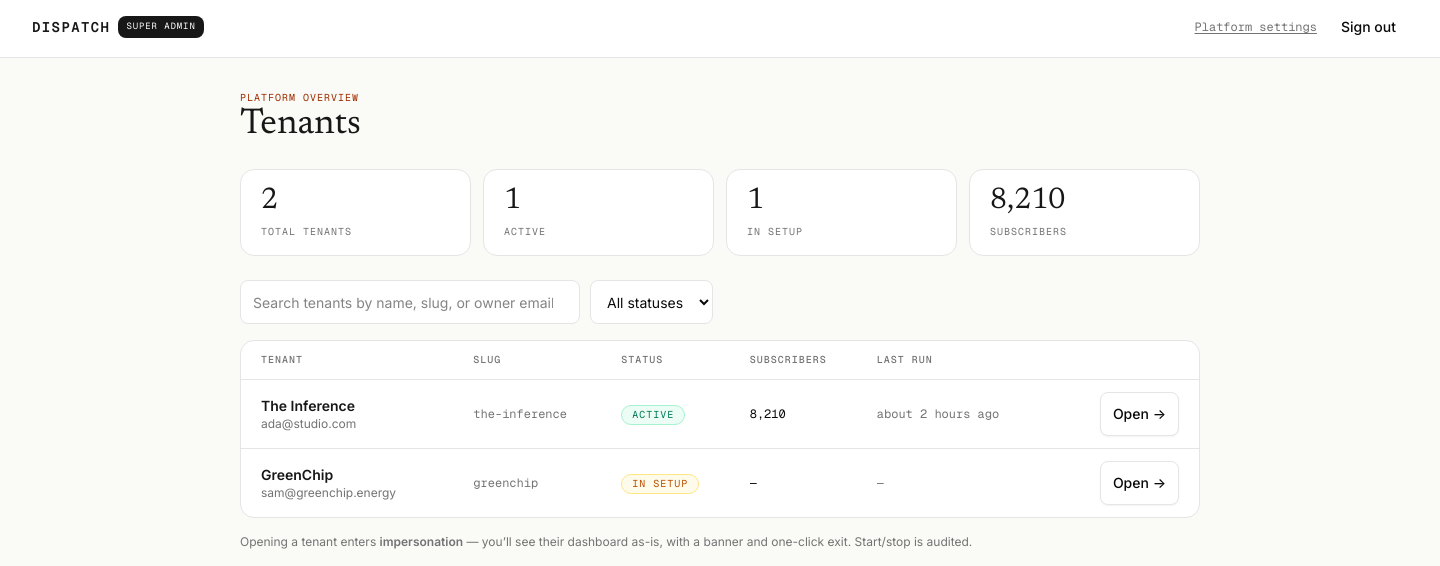
Test: SuperAdminTenantsPage › search and status filter narrow the list
Check: the text "The Inference" is shown, box [261,397,355,414]
Search by owner email fragment.
In the search field with placeholder "Search tenants by name, slug, or owner email…": (410, 302) [240,280,580,324], type "greenchip.energy"
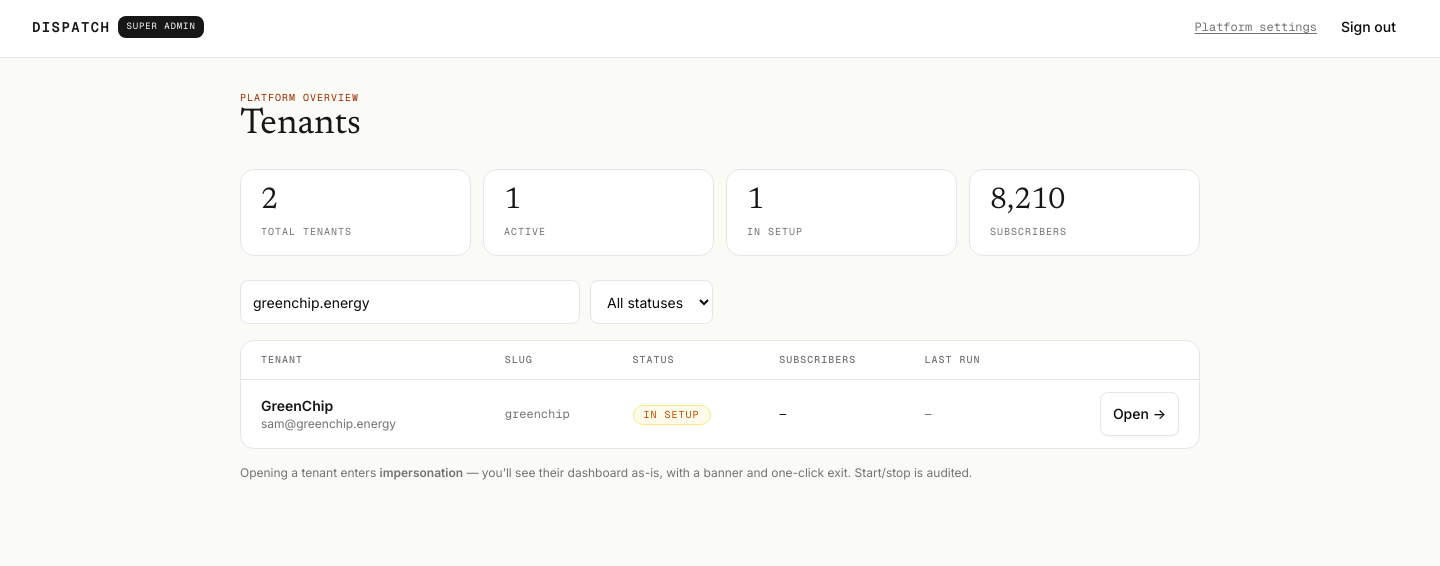
Check: the text "GreenChip" is shown, box [261,397,333,414]
Check: the text "The Inference" is gone
Clear search, filter by status instead.
Clear the search field with placeholder "Search tenants by name, slug, or owner email…": (410, 302) [240,280,580,324]
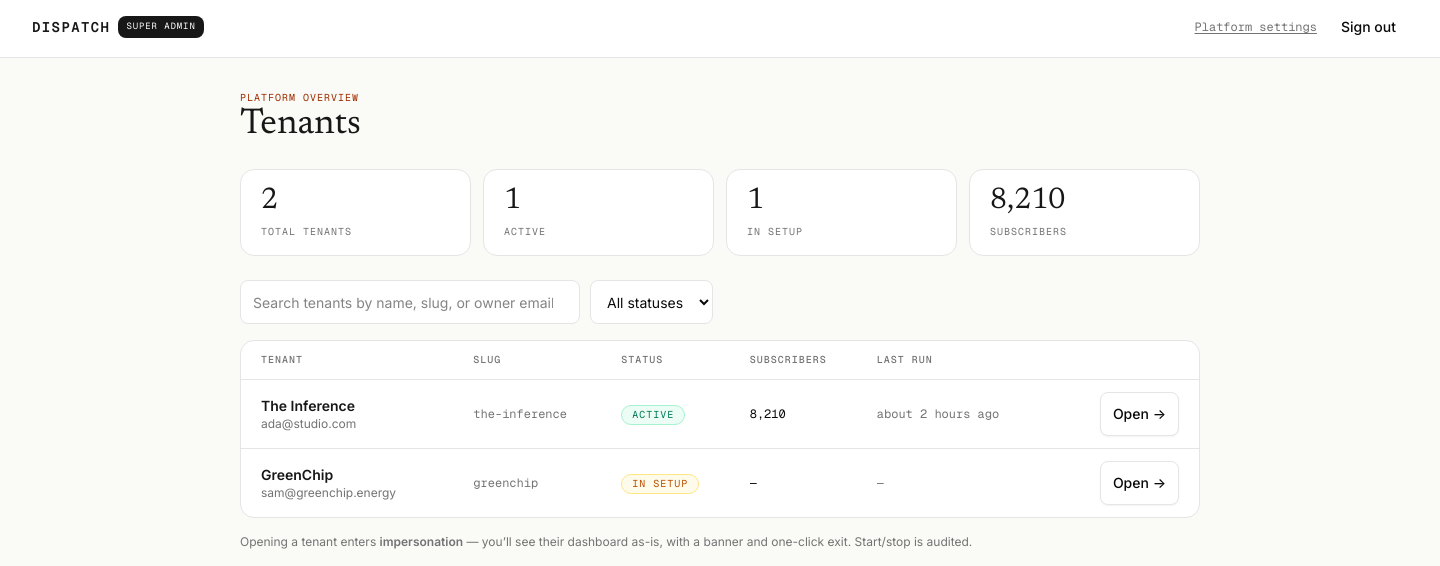
Check: the text "The Inference" is shown, box [261,397,355,414]
Select "Active" in the dropdown named "Filter by status": (652, 302) [590,280,713,324]
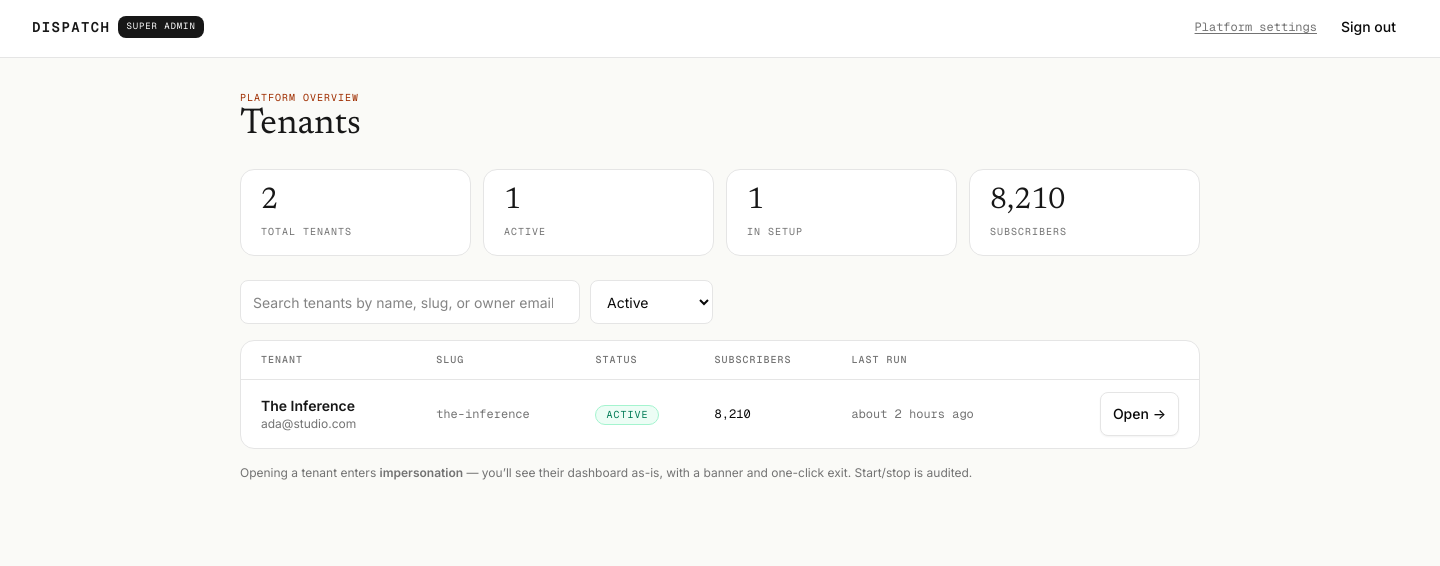
Check: the text "The Inference" is shown, box [261,397,355,414]
Check: the text "GreenChip" is gone
